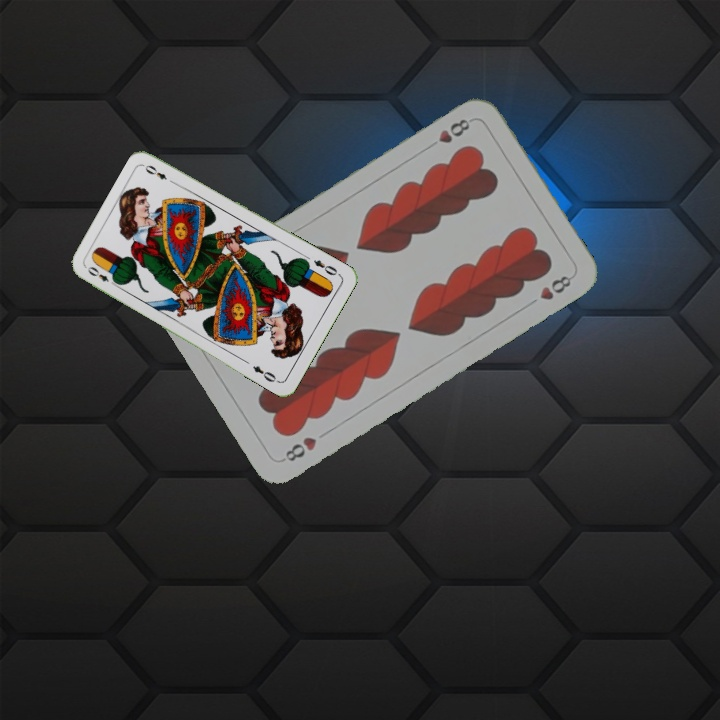EO: (83, 262, 120, 289), (309, 256, 343, 278)
H8: (423, 114, 473, 152), (278, 432, 320, 465)
